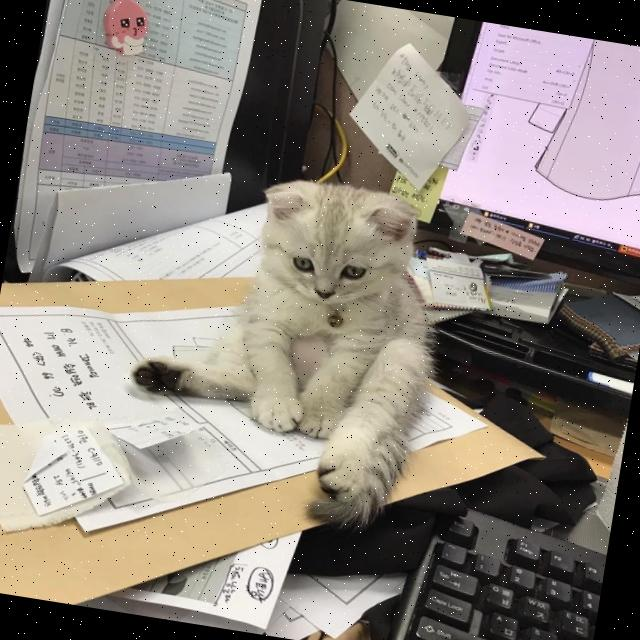cat: (208, 168, 464, 538)
